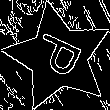P_SE: (27, 30, 90, 84)
